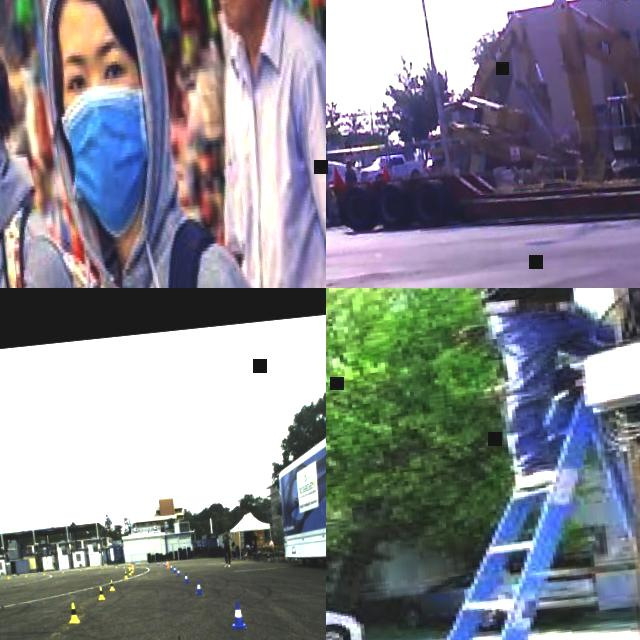machinery: (412, 7, 558, 185), (547, 0, 640, 189)
mask: (58, 82, 160, 238)
no_helmet: (43, 0, 149, 39), (345, 159, 352, 166), (252, 531, 255, 534), (268, 536, 270, 540), (222, 528, 226, 530), (243, 546, 246, 548), (246, 542, 248, 544)
no_mask: (216, 0, 264, 30)
no_vest: (215, 19, 326, 288), (76, 212, 246, 288), (222, 534, 228, 546), (269, 542, 274, 548), (252, 543, 256, 550), (252, 536, 255, 544)
person: (32, 0, 284, 288), (184, 0, 326, 288), (455, 288, 640, 493), (0, 0, 99, 288), (220, 526, 232, 568), (342, 158, 358, 188), (264, 536, 274, 560), (245, 540, 257, 560), (240, 544, 248, 556), (252, 532, 258, 544), (230, 545, 234, 559), (245, 542, 250, 549)
safety_cone: (228, 600, 246, 629), (66, 601, 80, 624), (331, 166, 341, 189), (379, 160, 389, 182), (194, 580, 203, 594), (97, 586, 105, 600), (182, 572, 189, 583), (108, 579, 114, 591), (165, 559, 169, 568), (176, 568, 180, 576), (123, 570, 127, 578), (128, 568, 132, 576), (172, 566, 176, 572), (169, 564, 173, 570), (132, 562, 134, 572), (130, 566, 133, 572), (164, 561, 167, 567), (162, 561, 165, 565), (156, 561, 159, 565), (12, 573, 15, 577), (24, 572, 27, 576), (228, 542, 230, 548), (79, 566, 81, 571), (62, 568, 64, 573), (146, 561, 148, 565), (136, 562, 138, 566), (127, 564, 129, 568), (122, 564, 124, 568), (100, 564, 102, 568), (43, 570, 45, 574), (7, 574, 9, 578), (231, 546, 233, 550), (115, 564, 116, 568), (130, 564, 130, 568)
vehicle: (358, 149, 426, 186), (326, 572, 363, 640)
